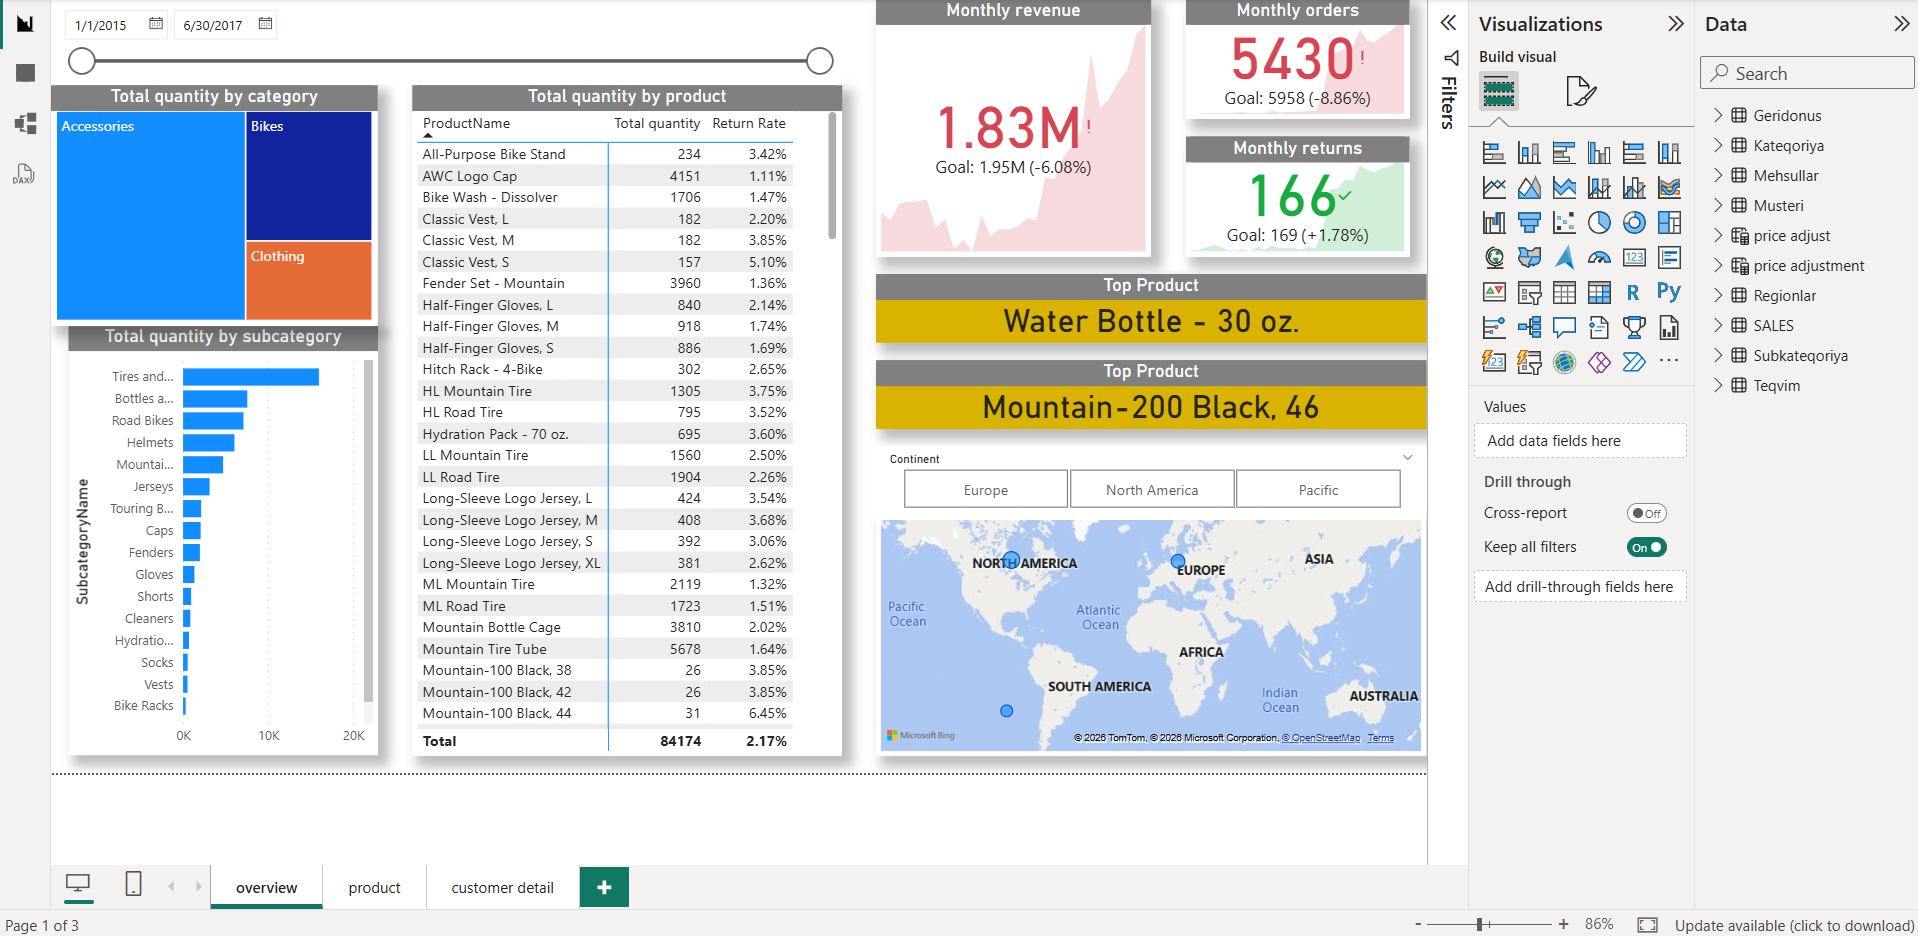

The page's visual inventory and layout, read from the dashboard file:
{"tool":"powerbi","page":{"name":"overview","canvas":[1280,720],"ordinal":0},"visuals":[{"type":"barChart","title":"Total quantity by subcategory","fields":{"Y":["SALES.Total Orders"],"Category":["Subkateqoriya.SubcategoryName"]},"box":[16,304,288,400],"z":0},{"type":"treemap","title":"Total quantity by category","fields":{"Group":["Kateqoriya.CategoryName"],"Values":["SALES.Total Orders"]},"box":[0,80,304,224],"z":1000},{"type":"pivotTable","title":"Total quantity by product","fields":{"Rows":["Mehsullar.ProductName"],"Values":["SALES.Total quantity","SALES.Return Rate"]},"box":[336,80,400,624],"z":2000},{"type":"kpi","title":"Monthly returns","fields":{"Indicator":["Geridonus.Total Returns"],"TrendLine":["Teqvim.Start of Month"],"Goal":["Geridonus.Prev Month Returns"]},"box":[1056,128,208,112],"z":3000},{"type":"kpi","title":"Monthly orders","fields":{"TrendLine":["Teqvim.Start of Month"],"Indicator":["SALES.Total Orders"],"Goal":["SALES.Order target"]},"box":[1056,0,208,112],"z":4000},{"type":"kpi","title":"Monthly revenue","fields":{"TrendLine":["Teqvim.Start of Month"],"Goal":["SALES.TARGET REVENUE"],"Indicator":["SALES.Total Revenue"]},"box":[768,0,256,240],"z":5000},{"type":"slicer","fields":{"Values":["Teqvim.Date"]},"box":[0,0,736,80],"z":6000},{"type":"card","title":"Top Product","fields":{"Values":["Min(Mehsullar.ProductName)"]},"box":[768,256,512,64],"z":7000},{"type":"card","title":"Top Product","fields":{"Values":["Min(Mehsullar.ProductName)"]},"box":[768,336,512,64],"z":8000},{"type":"map","fields":{"Category":["Regionlar.Continent Hierarchy.Continent","Regionlar.Continent Hierarchy.Country","Regionlar.Continent Hierarchy.Region"],"Size":["SALES.Total quantity"]},"box":[768,480,512,224],"z":9000},{"type":"slicer","fields":{"Values":["Regionlar.Continent"]},"box":[768,416,512,64],"z":10000}]}

Visuals, with their boxes on the page's 1280x720 design canvas (x1, y1, x2, y2). These are canvas units, not pixel positions in the 1918x936 screenshot, which may show the page scaled, cropped or inside an application window:
"Total quantity by subcategory" barChart: (16,304,304,704)
"Total quantity by category" treemap: (0,80,304,304)
"Total quantity by product" pivotTable: (336,80,736,704)
"Monthly returns" kpi: (1056,128,1264,240)
"Monthly orders" kpi: (1056,0,1264,112)
"Monthly revenue" kpi: (768,0,1024,240)
slicer - Teqvim.Date: (0,0,736,80)
"Top Product" card: (768,256,1280,320)
"Top Product" card: (768,336,1280,400)
map - Regionlar.Continent Hierarchy.Continent x Regionlar.Continent Hierarchy.Country: (768,480,1280,704)
slicer - Regionlar.Continent: (768,416,1280,480)
